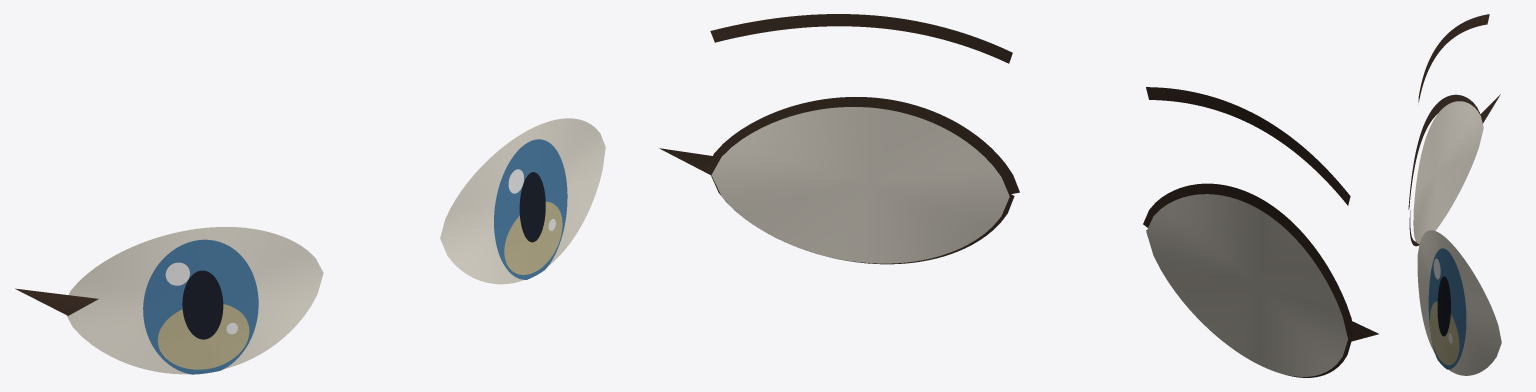
3 views of the same model, side by side, from view 1: azimuth 30°, elevation 25°; view 2: azimuth 150°, elevation 25°; view 3: azimuth 270°, elevation 25° (orthographic). The views are drawn at different scales.
Visible parts, largest first — view 1: Eye_White_-1, Eye_White_1, Eye_Iris_-1, Eye_Iris_1, Eye_Iris_Light_-1, Eye_Iris_Light_1, Eye_Pupil_-1, Eye_Pupil_1, Eye_LashWing_-1; view 2: Eye_White_1, Eye_White_-1, Eyebrow_1, Eye_UpperLid_1, Eye_UpperLid_-1, Eyebrow_-1; view 3: Eye_White_-1, Eye_White_1, Eye_Iris_1, Eye_Iris_Light_1, Eyebrow_-1, Eye_Pupil_1, Eye_UpperLid_-1, Eye_LashWing_-1, Eye_Glint_1_0.
Boxes of the visible parts, <box> form: Eye_White_-1: <box>66,227,323,374</box>; Eye_White_1: <box>440,118,605,284</box>; Eye_Iris_-1: <box>143,239,258,374</box>; Eye_Iris_1: <box>494,139,567,279</box>; Eye_Iris_Light_-1: <box>157,304,249,369</box>; Eye_Iris_Light_1: <box>504,201,562,274</box>; Eye_Pupil_-1: <box>182,270,223,339</box>; Eye_Pupil_1: <box>519,172,545,242</box>; Eye_LashWing_-1: <box>15,288,98,315</box>; Eye_White_1: <box>711,107,1009,263</box>; Eye_White_-1: <box>1146,194,1347,376</box>; Eyebrow_1: <box>710,14,1012,63</box>; Eye_UpperLid_1: <box>705,97,1019,194</box>; Eye_UpperLid_-1: <box>1143,183,1355,337</box>; Eyebrow_-1: <box>1146,87,1350,205</box>; Eye_White_-1: <box>1413,101,1483,243</box>; Eye_White_1: <box>1417,230,1501,375</box>; Eye_Iris_1: <box>1428,248,1466,369</box>; Eye_Iris_Light_1: <box>1429,301,1459,365</box>; Eyebrow_-1: <box>1418,14,1489,102</box>; Eye_Pupil_1: <box>1437,276,1450,336</box>; Eye_UpperLid_-1: <box>1408,94,1480,209</box>; Eye_LashWing_-1: <box>1480,94,1500,123</box>; Eye_Glint_1_0: <box>1433,258,1440,279</box>.
Bounding box in the file's own units: 0.4435 × 0.1616 × 0.0812.
